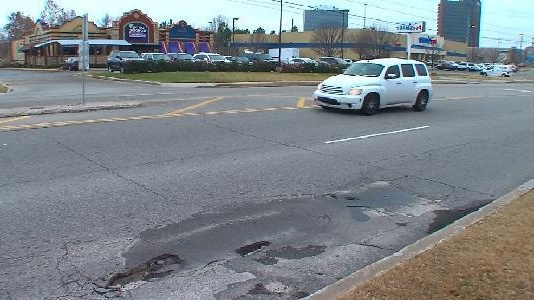pothole: (104, 250, 184, 291), (234, 235, 271, 254), (321, 189, 338, 201), (343, 192, 360, 201)
